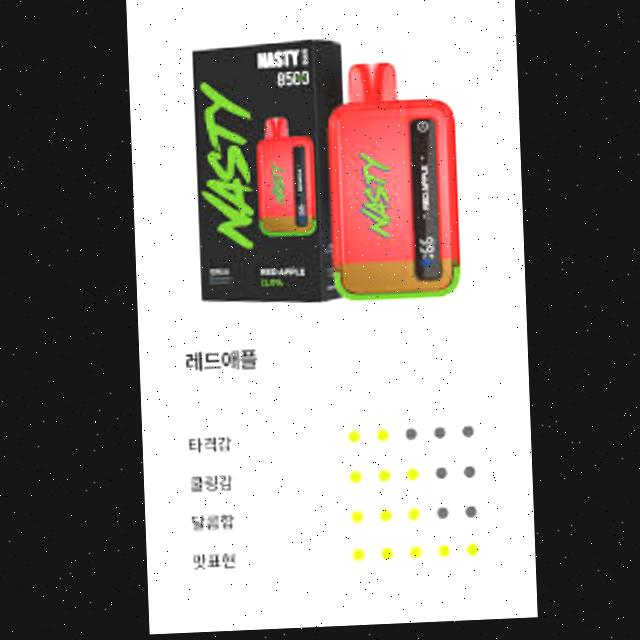vape: (325, 64, 461, 305), (253, 116, 318, 238)
